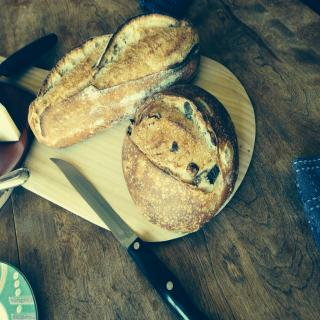Bread: (27, 10, 201, 149), (121, 83, 239, 234)
